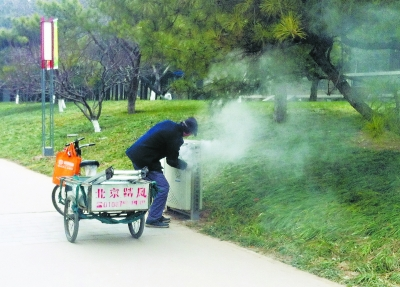smoke: (197, 103, 305, 167)
